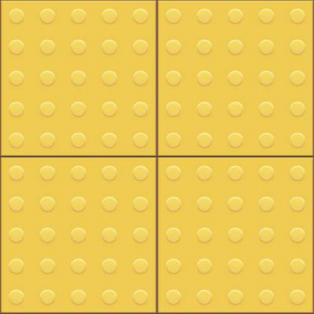Podoctatil: (1, 2, 312, 311)
